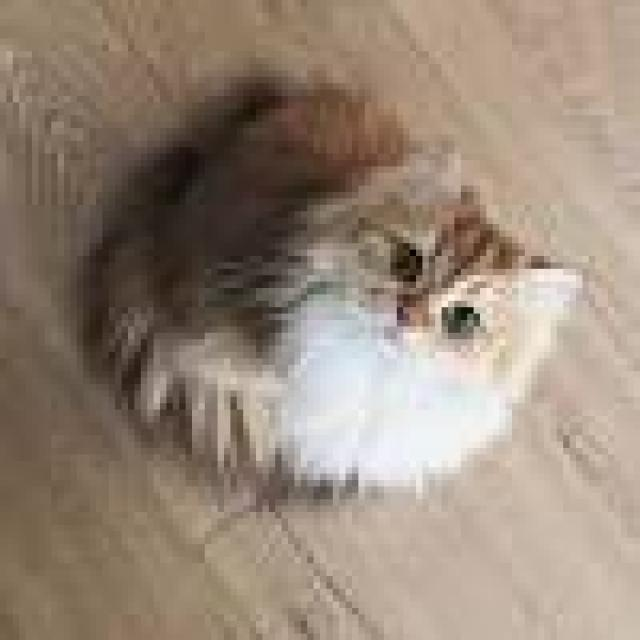Cat: (73, 70, 582, 514)
